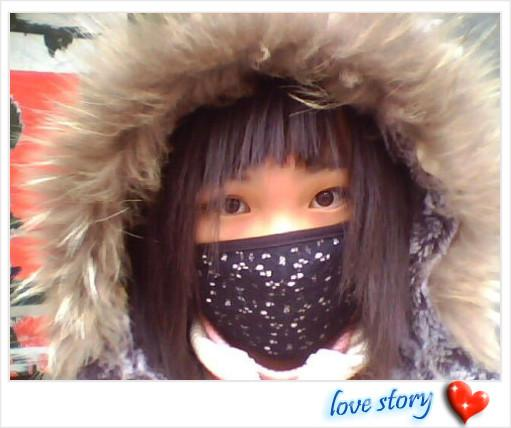OK: (174, 146, 383, 355)
